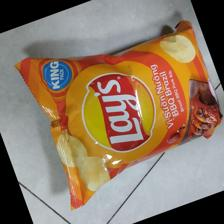Lays: (11, 20, 223, 211)
